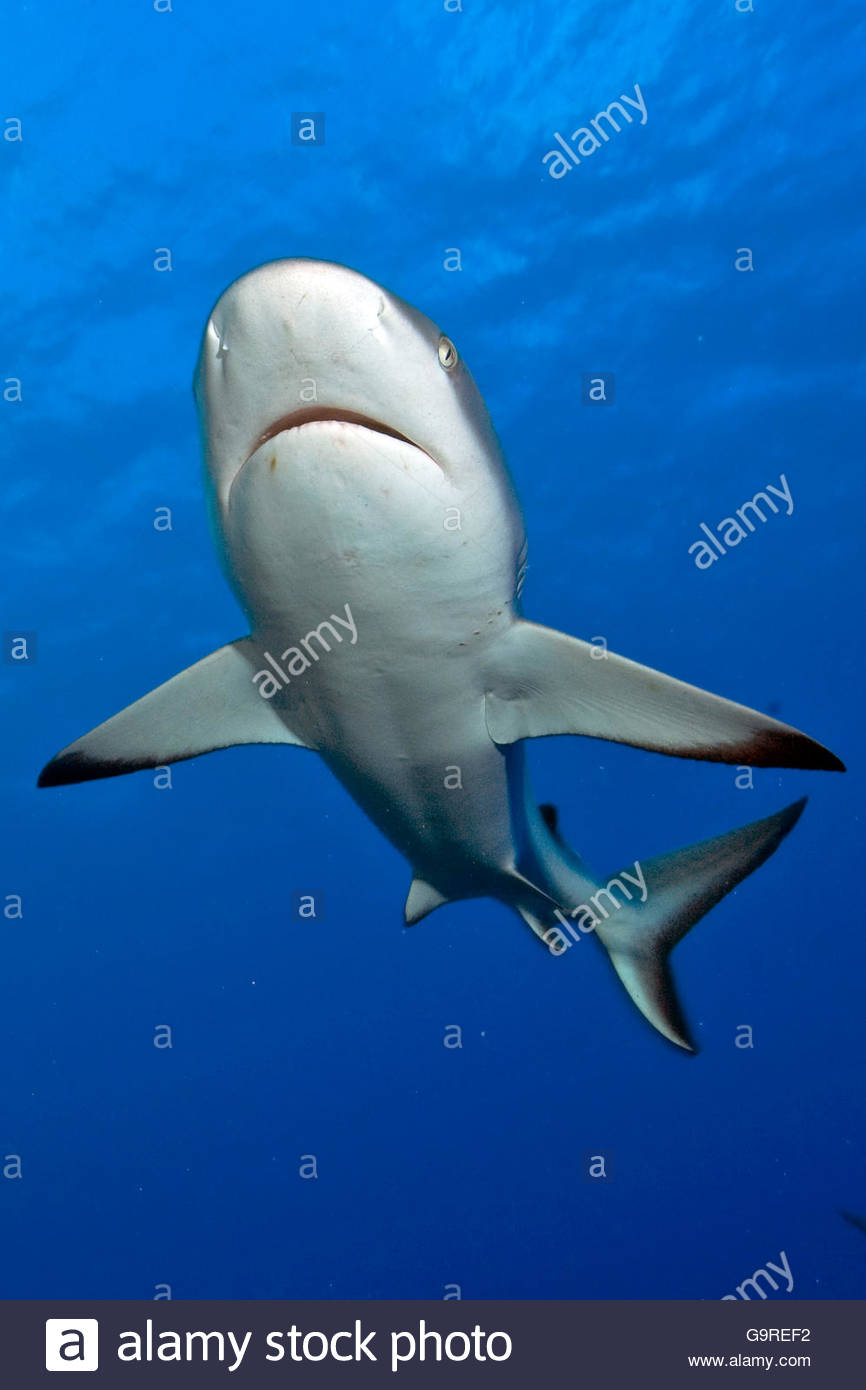Carcharhinus_amblyrhynchos: (34, 241, 862, 1092)
